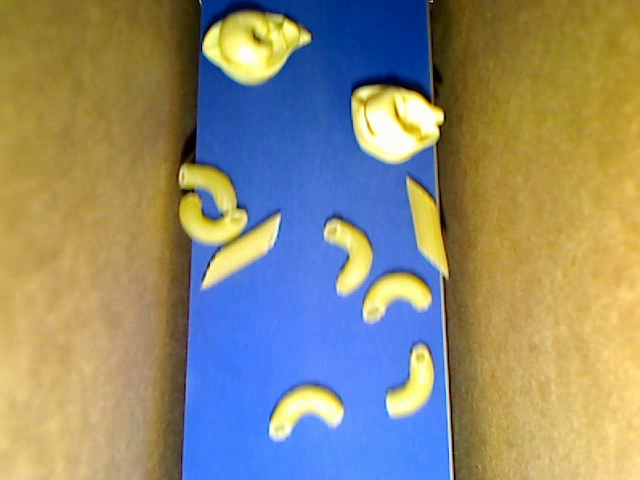elbow: (267, 384, 344, 442), (322, 217, 373, 296), (359, 271, 433, 324), (384, 342, 434, 419), (177, 191, 247, 245), (175, 163, 237, 215)
penne: (201, 211, 282, 289), (405, 176, 450, 276)
tortellini: (202, 12, 312, 86), (350, 84, 445, 165)
